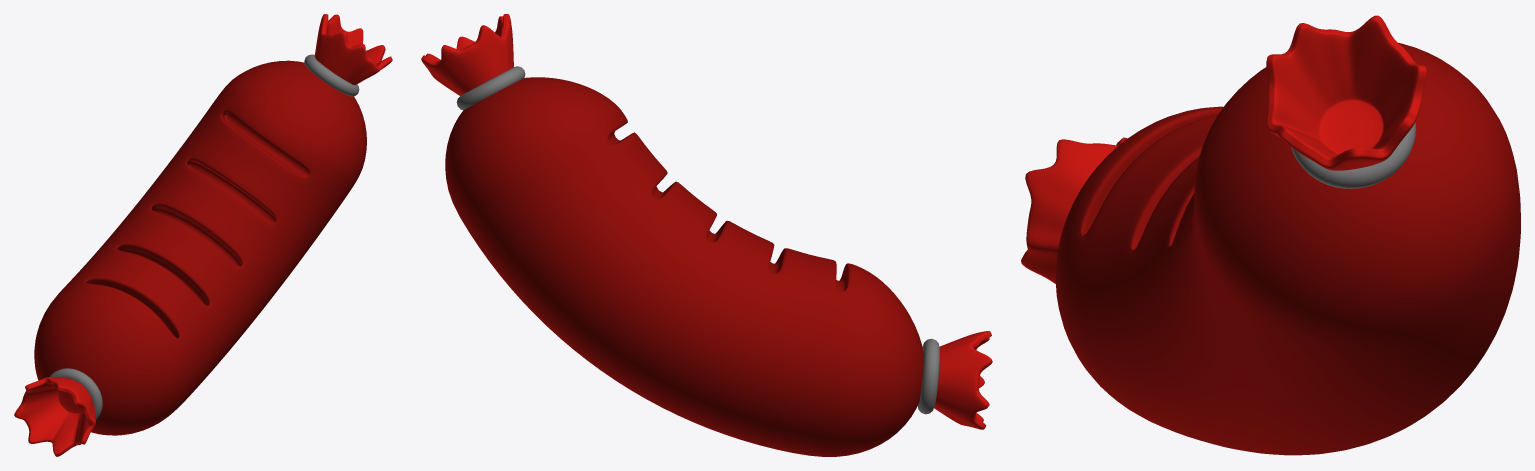
The model's file is Sausage.obj.
3 views of the same model, side by side, from view 1: azimuth 30°, elevation 25°; view 2: azimuth 150°, elevation 25°; view 3: azimuth 270°, elevation 25° (orthographic). The views are drawn at different scales.
Visible parts, largest first — view 1: Sphere_Sphere.048, Cylinder_Cylinder.094, BezierCircle_BezierCircle.001; view 2: Sphere_Sphere.048, Cylinder_Cylinder.094, BezierCircle_BezierCircle.001; view 3: Sphere_Sphere.048, Cylinder_Cylinder.094, BezierCircle_BezierCircle.001.
Part boxes in pixels (left/top/right/bottom): Sphere_Sphere.048: left=34, top=60, right=366, bottom=435; Cylinder_Cylinder.094: left=14, top=14, right=392, bottom=456; BezierCircle_BezierCircle.001: left=49, top=54, right=359, bottom=419; Sphere_Sphere.048: left=445, top=77, right=923, bottom=456; Cylinder_Cylinder.094: left=421, top=14, right=992, bottom=429; BezierCircle_BezierCircle.001: left=456, top=66, right=939, bottom=414; Sphere_Sphere.048: left=1055, top=42, right=1520, bottom=455; Cylinder_Cylinder.094: left=1021, top=15, right=1426, bottom=283; BezierCircle_BezierCircle.001: left=1291, top=122, right=1416, bottom=188.
Size of the model in its own units: 8.45 by 6.18 by 4.34.
